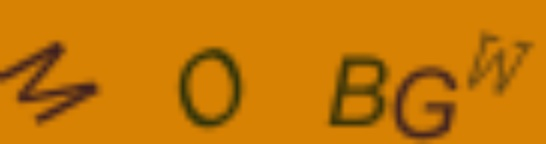B: (324, 53, 392, 130)
G: (393, 65, 462, 143)
M: (1, 33, 104, 127)
O: (174, 43, 249, 131)
W: (464, 28, 535, 98)
